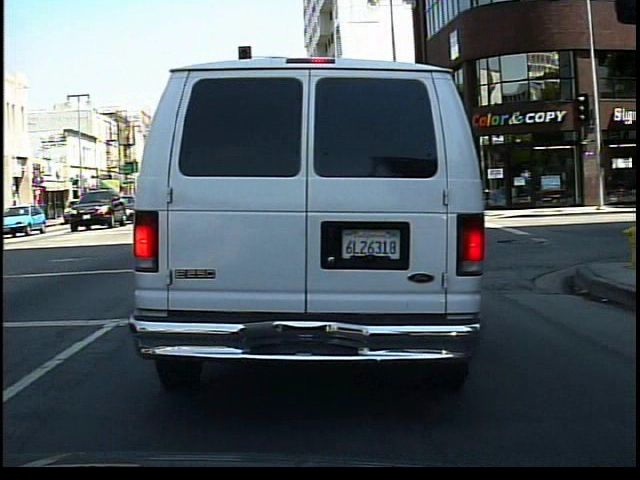person: (4, 196, 23, 229)
